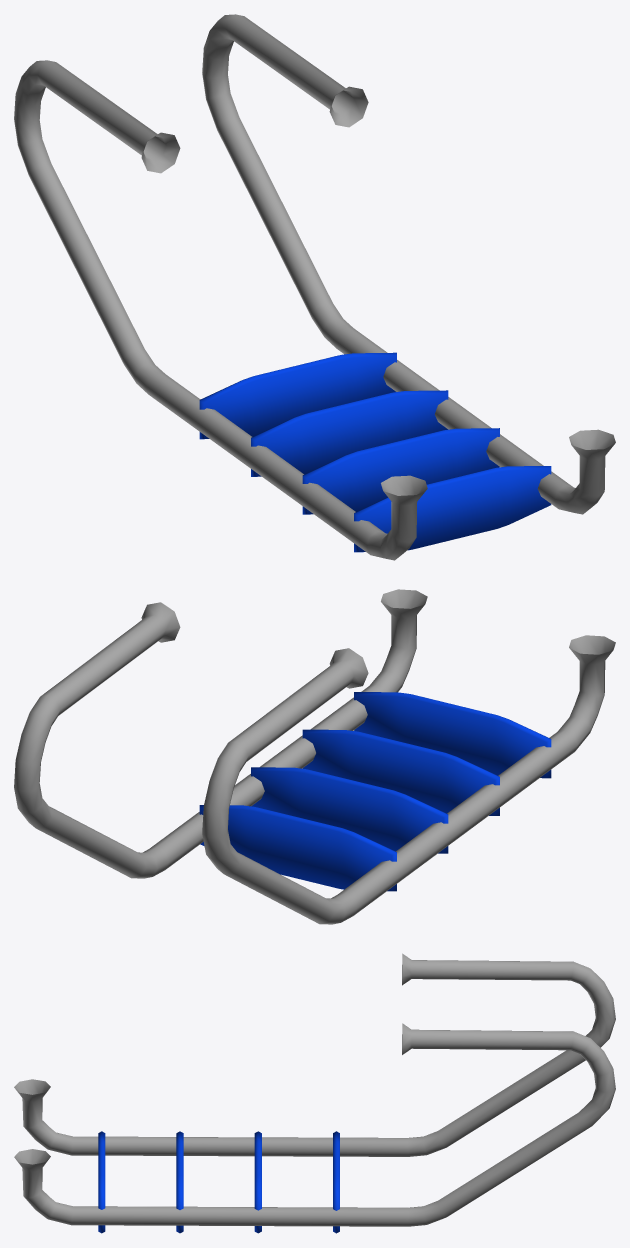
Rendered from Ladder01.fbx.
The picture shows the model from 3 angles, top to bottom: view 1: azimuth 30°, elevation 25°; view 2: azimuth 150°, elevation 25°; view 3: azimuth 270°, elevation 25°; orthographic projection. The views are drawn at different scales.
Visible parts, largest first — view 1: Ladder01; view 2: Ladder01; view 3: Ladder01.
Boxes of the visible parts, <box> form: Ladder01: <box>14,14,615,560</box>; Ladder01: <box>14,589,615,924</box>; Ladder01: <box>14,953,615,1233</box>.
Size of the model in its own units: 84.21 by 99.63 by 251.
